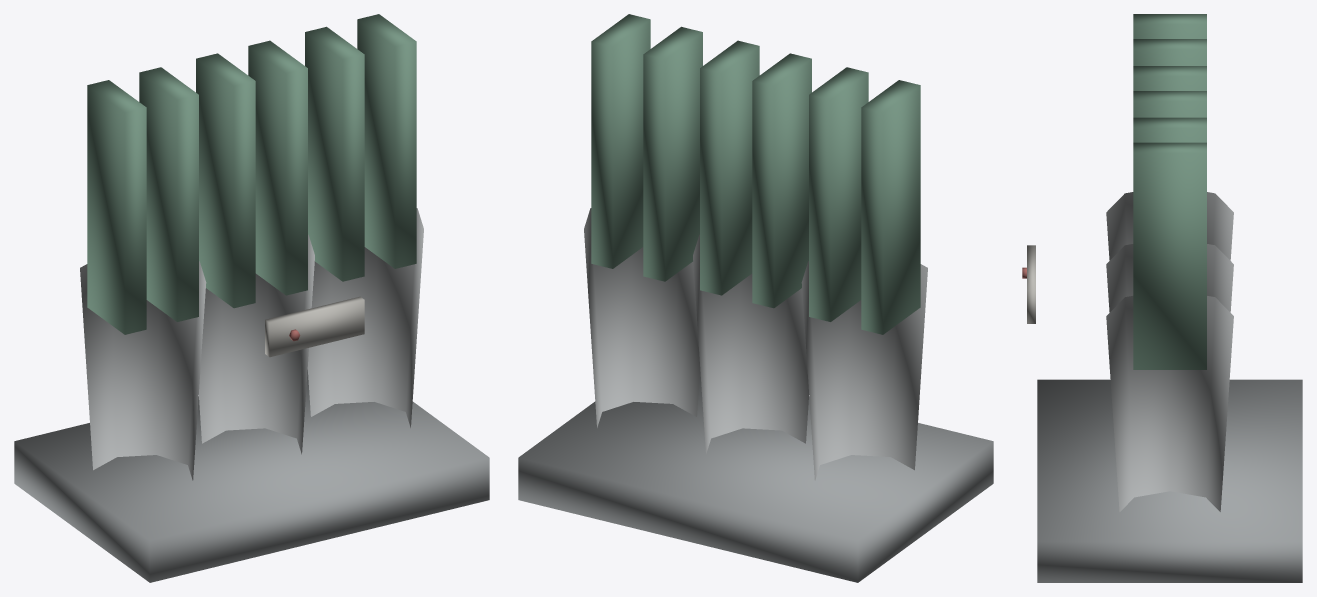
The model's file is flower_bucket_rack__tall.glb.
The picture shows the model from 3 angles, left to right: view 1: azimuth 30°, elevation 25°; view 2: azimuth 150°, elevation 25°; view 3: azimuth 270°, elevation 25°; orthographic projection. The views are drawn at different scales.
Parts seen in each view (by area): view 1: world; view 2: world; view 3: world.
Boxes of the visible parts, <box> form: world: <box>14,14,489,582</box>; world: <box>518,14,993,582</box>; world: <box>1022,14,1302,582</box>.
Size of the model in its own units: 0.78 by 0.9396 by 0.571.
